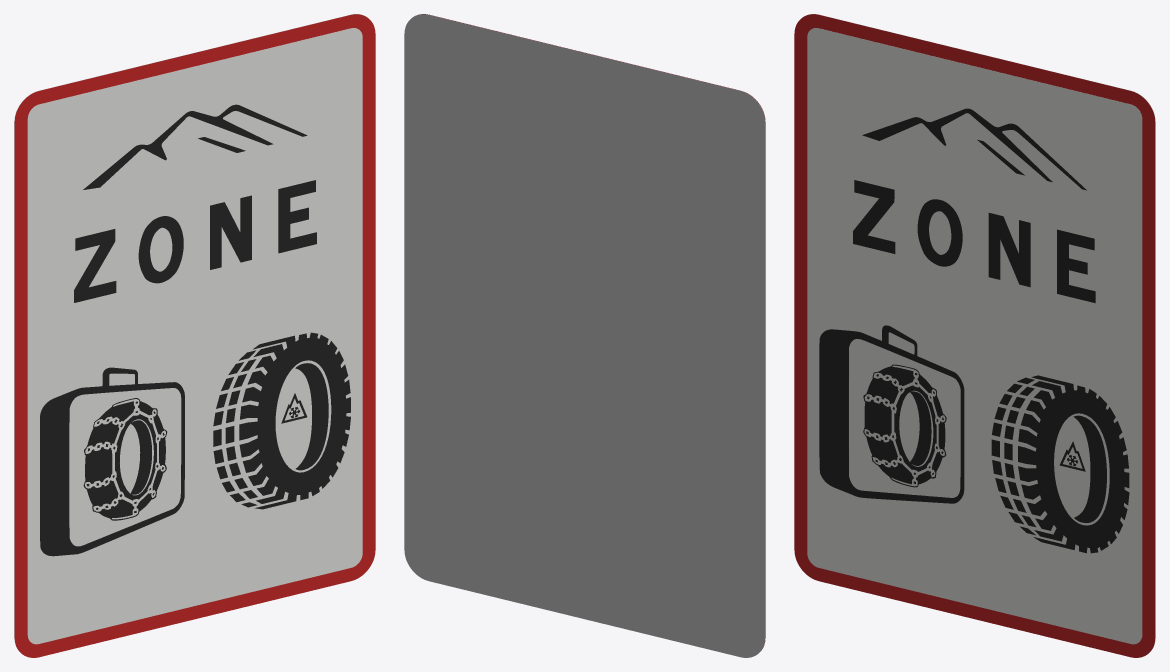
3 renders of one model, left to right at view 1: azimuth 30°, elevation 25°; view 2: azimuth 150°, elevation 25°; view 3: azimuth 330°, elevation 25°, orthographic.
Visible parts, largest first — view 1: B58_p01, B58_p00, B58_p02, B58_p09, B58_p03, B58_p07, B58_p10, B58_p06, B58_p08, B58_p05, B58_dos; view 2: B58_dos, B58_p00; view 3: B58_p01, B58_p00, B58_p02, B58_p09, B58_p03, B58_p07, B58_p10, B58_p06, B58_p05, B58_p08, B58_dos.
Part boxes in pixels (left/top/right/bottom): B58_p01: left=27, top=28, right=362, bottom=644; B58_p00: left=14, top=14, right=375, bottom=657; B58_p02: left=40, top=367, right=184, bottom=556; B58_p09: left=213, top=332, right=350, bottom=509; B58_p03: left=83, top=104, right=307, bottom=189; B58_p07: left=210, top=195, right=251, bottom=269; B58_p10: left=295, top=363, right=328, bottom=470; B58_p06: left=138, top=216, right=183, bottom=283; B58_p08: left=278, top=180, right=316, bottom=253; B58_p05: left=74, top=229, right=116, bottom=302; B58_dos: left=14, top=14, right=360, bottom=650; B58_dos: left=404, top=14, right=765, bottom=657; B58_p00: left=419, top=14, right=765, bottom=650; B58_p01: left=807, top=28, right=1142, bottom=644; B58_p00: left=794, top=14, right=1155, bottom=657; B58_p02: left=819, top=325, right=964, bottom=503; B58_p09: left=991, top=375, right=1129, bottom=553; B58_p03: left=862, top=108, right=1086, bottom=190; B58_p07: left=988, top=213, right=1030, bottom=287; B58_p10: left=1073, top=415, right=1106, bottom=523; B58_p06: left=917, top=199, right=962, bottom=266; B58_p05: left=853, top=180, right=895, bottom=253; B58_p08: left=1057, top=229, right=1095, bottom=303; B58_dos: left=809, top=14, right=1155, bottom=650.
Bounding box in the file's own units: 1.2 × 1.8 × 0.0067.
